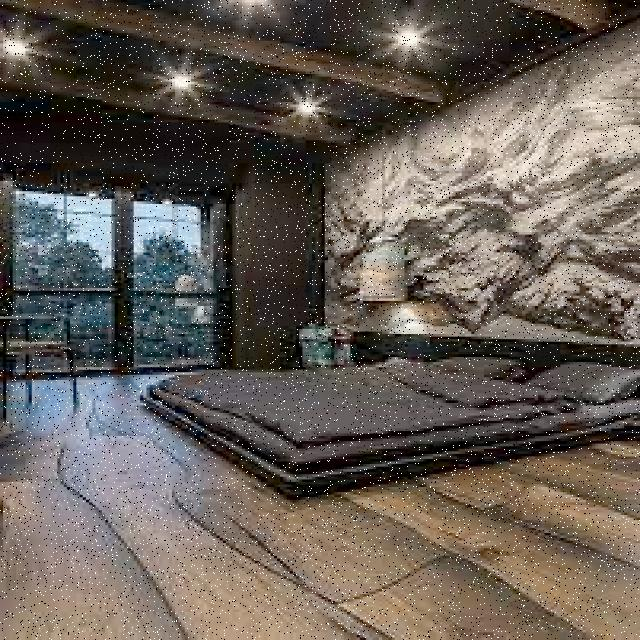bed: (147, 324, 628, 488)
